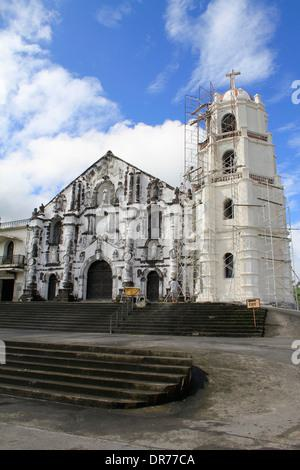daraga_church_daraga_albay: (25, 66, 296, 302)
